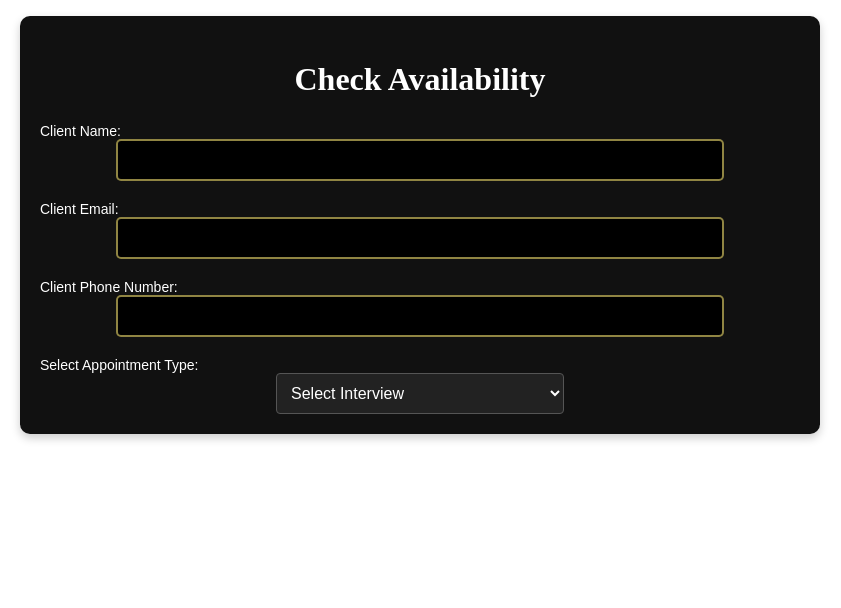
Test: application offers Server Interview - Virtual (1 hour, @ S) with the correct interview process
Select "Server Interview - Virtual" in the dropdown at (420, 394), box [276, 373, 564, 414]
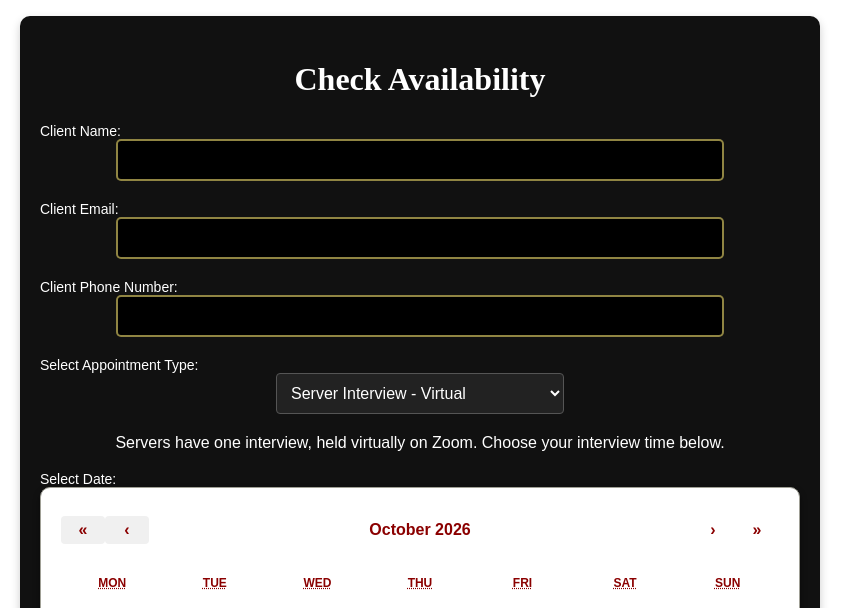
Now the text "Servers have one interview, held virtually on Zoom" is shown, box [115, 434, 725, 451]
